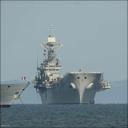Portanaves: (32, 25, 114, 106)
